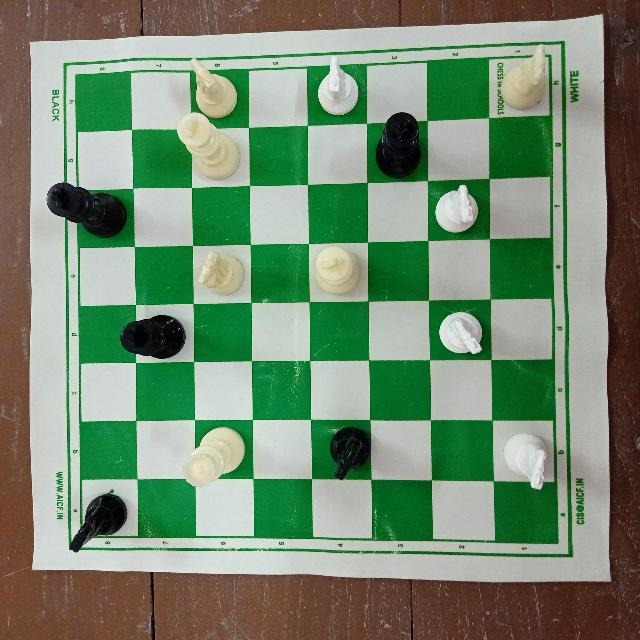black-king: (45, 179, 129, 241), (367, 105, 424, 178), (112, 315, 190, 363)
black-knight: (68, 489, 132, 555), (326, 425, 376, 485)
white-king: (172, 109, 241, 181), (312, 244, 366, 299)
white-knight: (494, 39, 553, 113), (504, 429, 562, 496), (185, 55, 241, 120), (190, 248, 251, 301), (312, 53, 360, 117), (433, 181, 485, 237), (433, 307, 488, 359)
white-queen: (179, 426, 252, 492)
